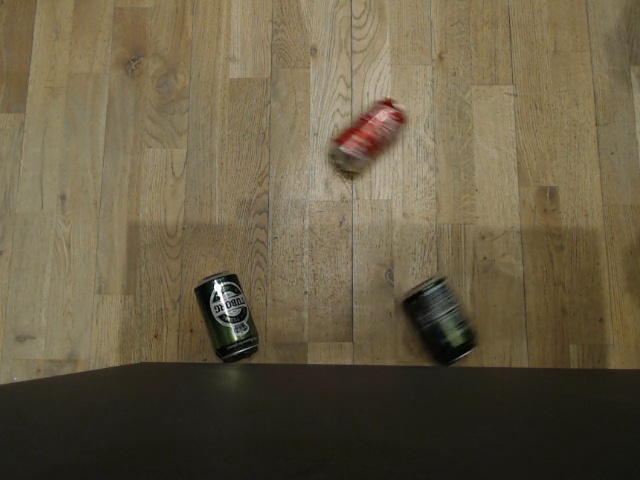beer: (402, 272, 479, 368), (187, 268, 259, 362)
cola: (327, 97, 400, 173)
